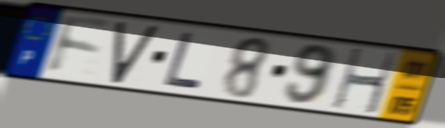8: (218, 35, 272, 100)
9: (281, 42, 340, 107)
F: (45, 12, 115, 77)
H: (329, 46, 399, 117)
L: (161, 30, 206, 91)
V: (109, 20, 162, 86)
